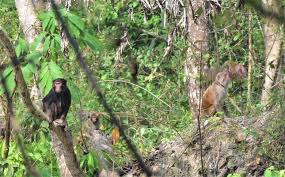monkey: (184, 43, 257, 135), (34, 60, 71, 138)
